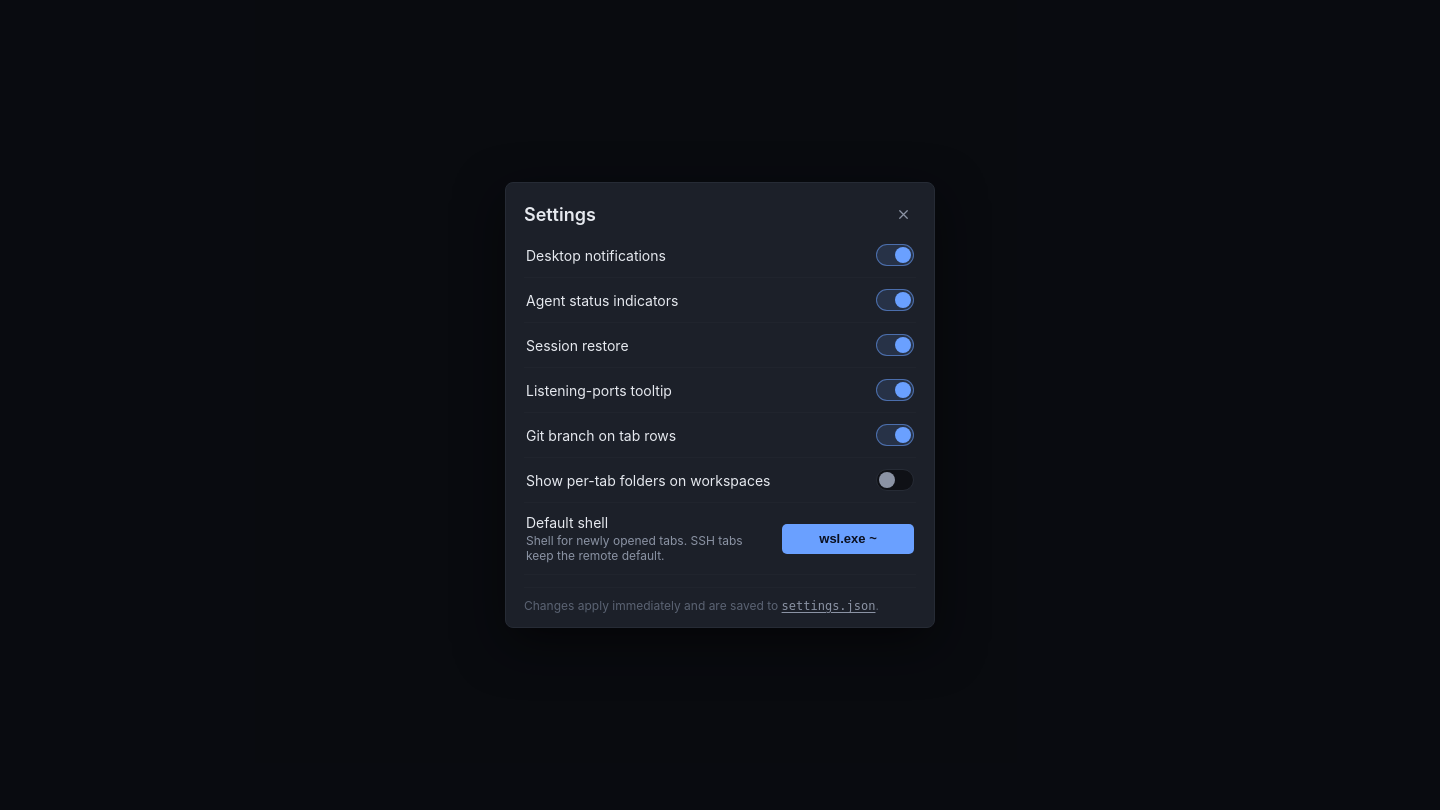
Test case: SettingsDialog › opens the Custom dialog from the menu, prefilled with a saved command (#77)
Click the button with test id "shell-picker". click: [848, 538]
box: [782,524,914,554]
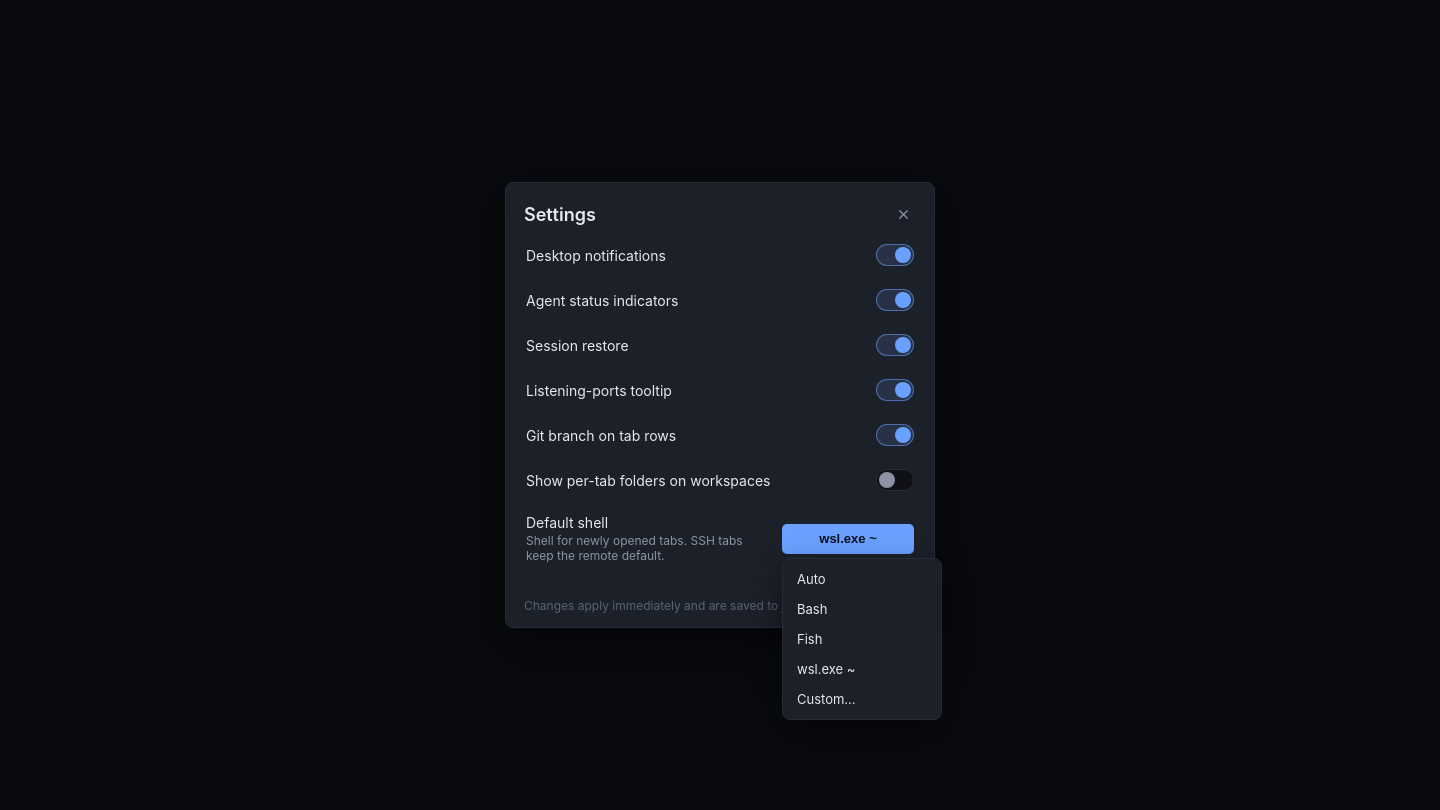
Click the menu item with test id "shell-custom-item". click: [862, 698]
box: [788,684,936,714]
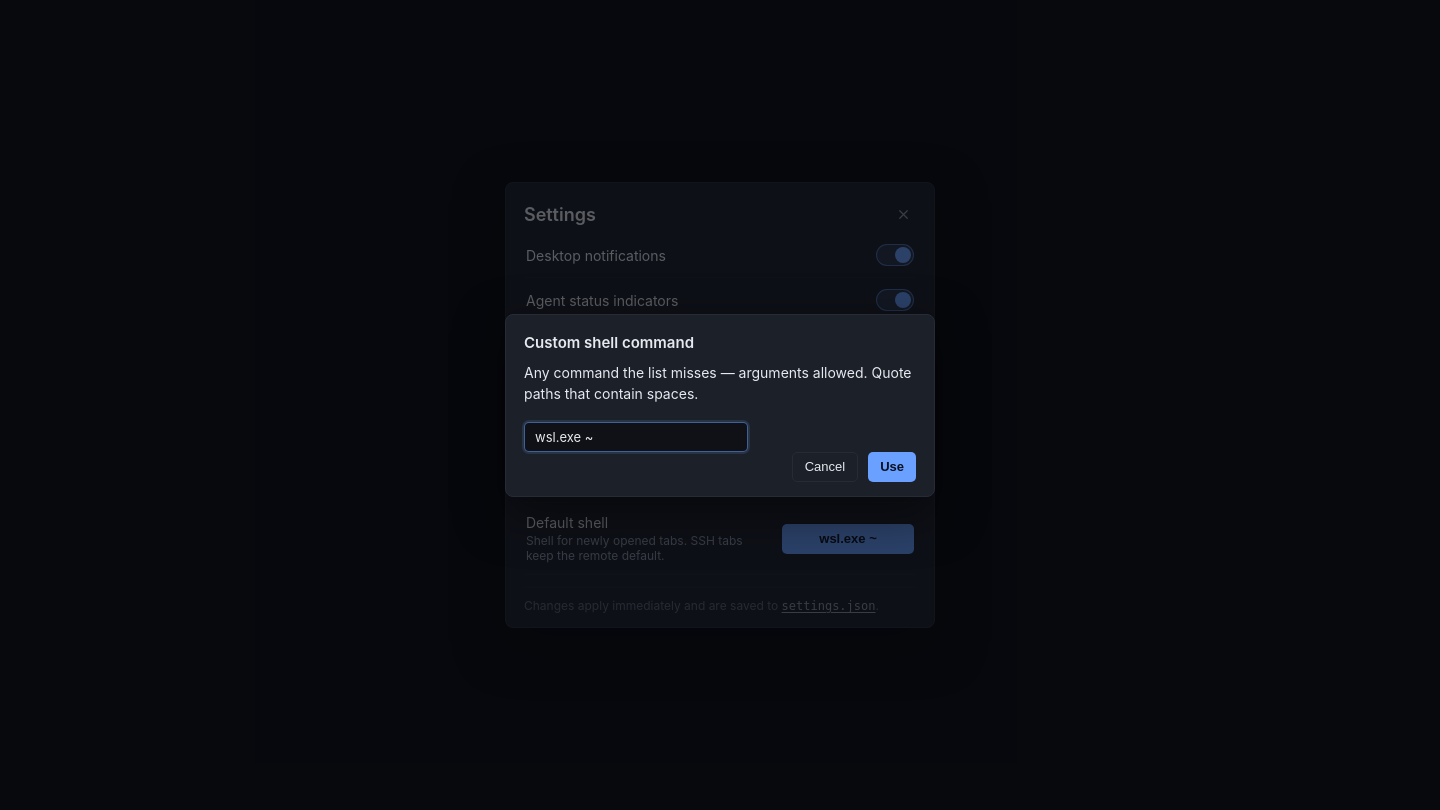
Check: the field with test id "shell-custom-input" holds "wsl.exe ~", box [524,422,748,452]
